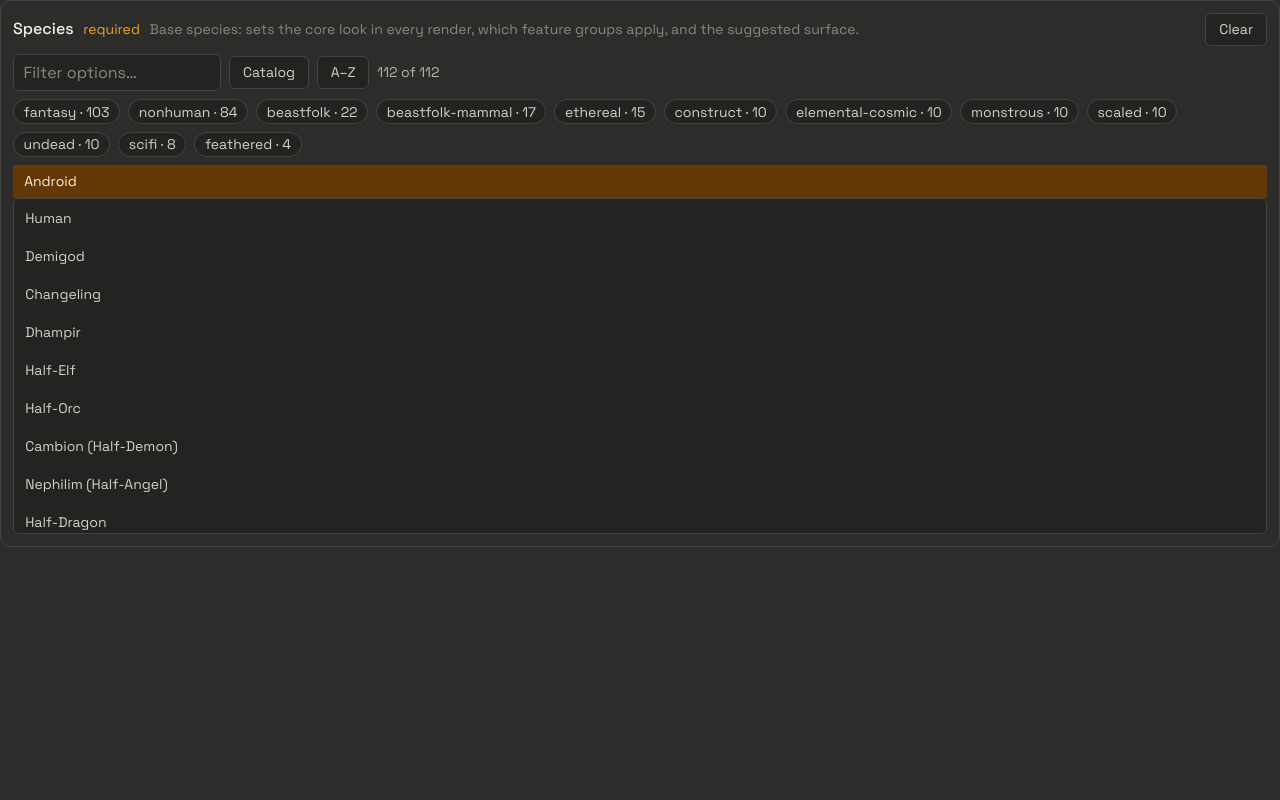
type-to-filter on labels › narrows the list and reports the count
Type "android" into the search field labelled "Filter options". click: (117, 72)
box: 13,54 -> 221,91
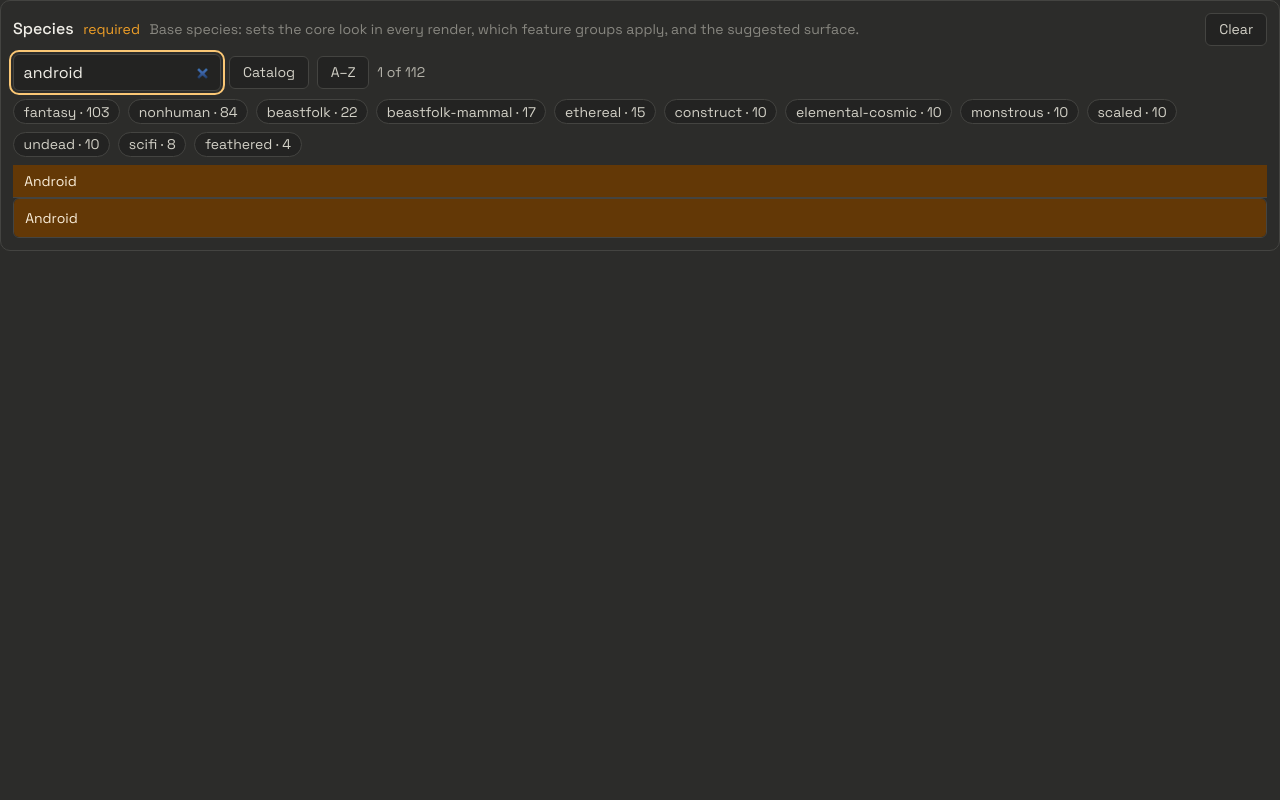
Expected: the button "Android" is shown, 13,165 -> 1267,197
Now the text "1 of 112" is shown, box 377,62 -> 425,83
